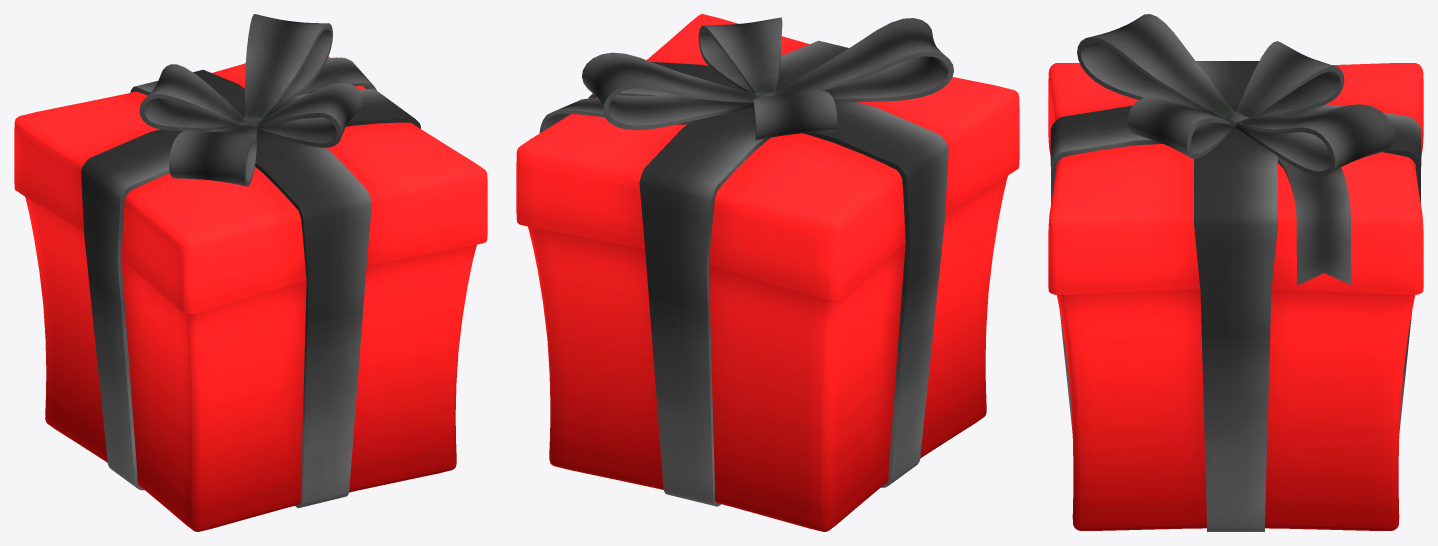
File: test-gift.gltf
3 views of the same model, side by side, from view 1: azimuth 30°, elevation 25°; view 2: azimuth 150°, elevation 25°; view 3: azimuth 270°, elevation 25° (orthographic). The views are drawn at different scales.
Parts seen in each view (by area): view 1: gift; view 2: gift; view 3: gift.
Part boxes in pixels (x1,y1,x2,y2): gift: (14,14,487,531); gift: (516,14,1019,531); gift: (1048,14,1423,531).
Bounding box in the file's own units: 0.0623 × 0.0702 × 0.0603.
1 material, 1 textured.
